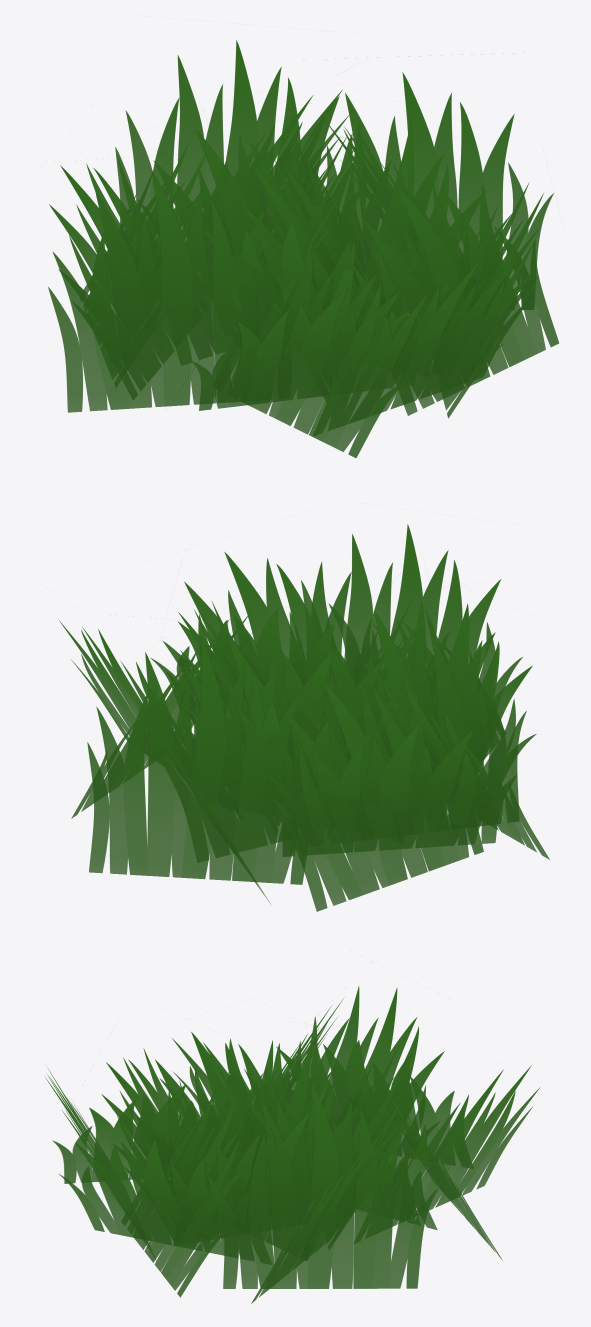
Rendered from grass.glb.
The picture shows the model from 3 angles, top to bottom: view 1: azimuth 30°, elevation 25°; view 2: azimuth 150°, elevation 25°; view 3: azimuth 270°, elevation 25°; orthographic projection. The views are drawn at different scales.
Visible parts, largest first — view 1: Grass01_LOD0; view 2: Grass01_LOD0; view 3: Grass01_LOD0.
Boxes of the visible parts, x1,y1,x2,y2 form: Grass01_LOD0: (48,40,558,457); Grass01_LOD0: (59,524,549,911); Grass01_LOD0: (45,986,540,1303).
Size of what is drawn, in the model's own units: 1.15 by 0.4401 by 1.2.
1 material, 1 textured.
